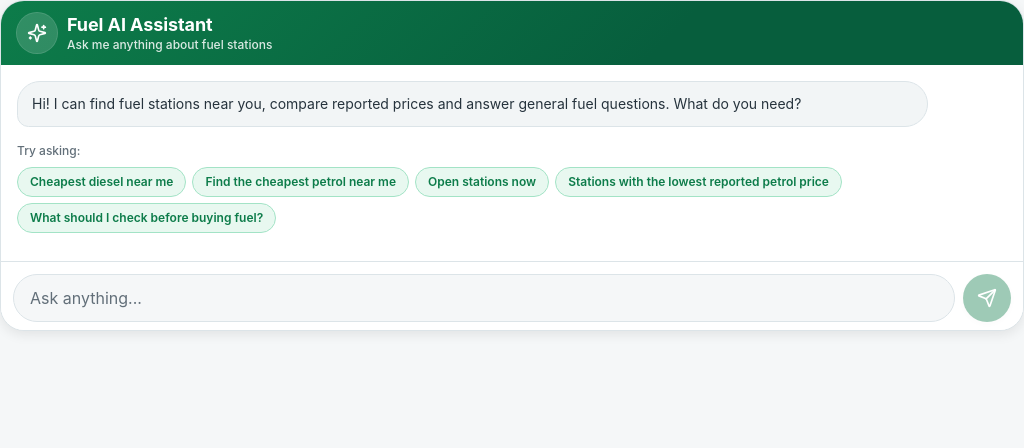
conversational questions › surfaces a provider/API error instead of a fake answer
This screenshot has width=1024, height=448.
Type "Hello, what can you help me with?" into the field named "Ask Fuel AI" at (484, 298), box [13, 274, 955, 322]
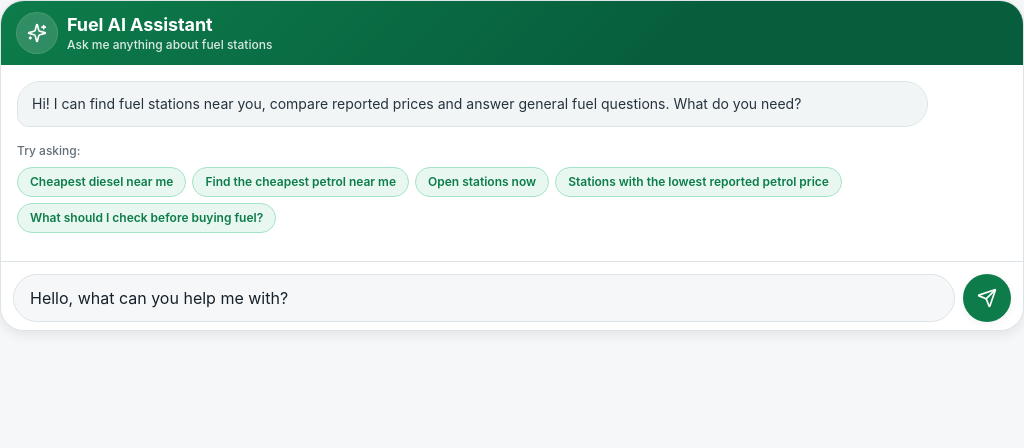
Click the button named "ask fuel ai" at (987, 298), box [963, 274, 1011, 322]
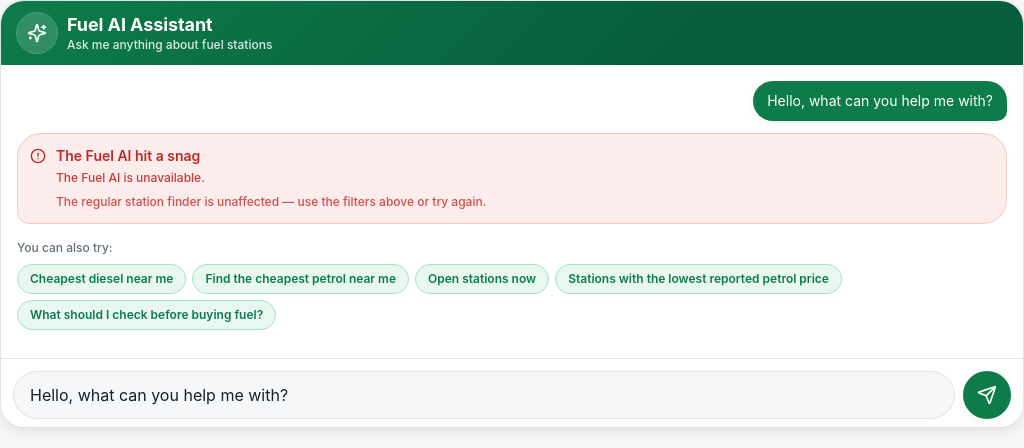
Expected: the text "The Fuel AI hit a snag" is shown, [56, 147, 200, 164]
